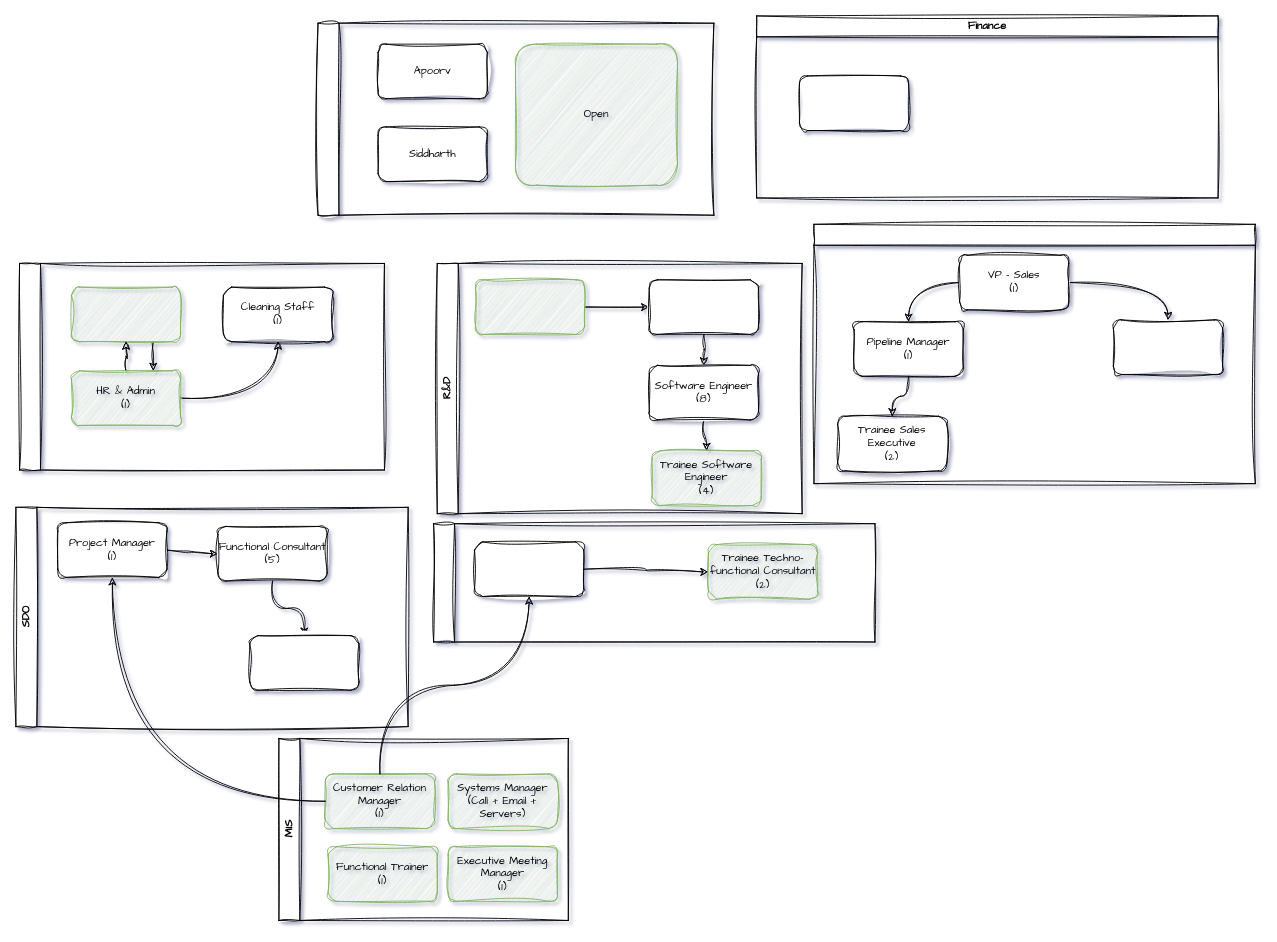
The diagram is 1277 pixels wide and 942 high, and some of its shapes have lost their labels. The shapes that lost their labels are listed below. From the top down, each one's box as (x1, y1, x2, y2) in pixels, then its label:
(317, 22, 714, 215): Board of Directors
(71, 286, 181, 342): Recruiter (1)
(475, 279, 585, 334): Solution Architect (1)
(648, 279, 758, 334): Team Lead (2)
(19, 263, 384, 470): Administrative Staff
(813, 223, 1255, 484): Sales & Marketing
(1112, 319, 1223, 374): Marketing + Content (1)
(474, 541, 584, 597): Support Manager (1)
(433, 523, 875, 642): CSG
(249, 635, 359, 690): Trainee Functional Consultant (5)
